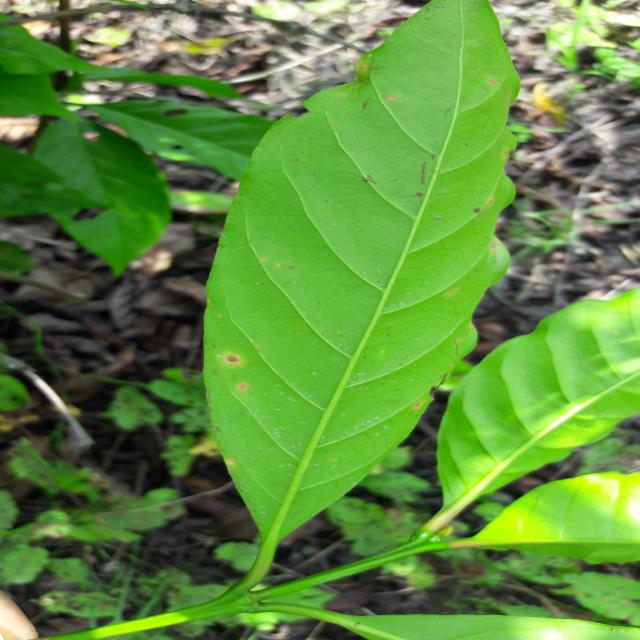Enfermedad-Roya: (202, 0, 521, 588)
